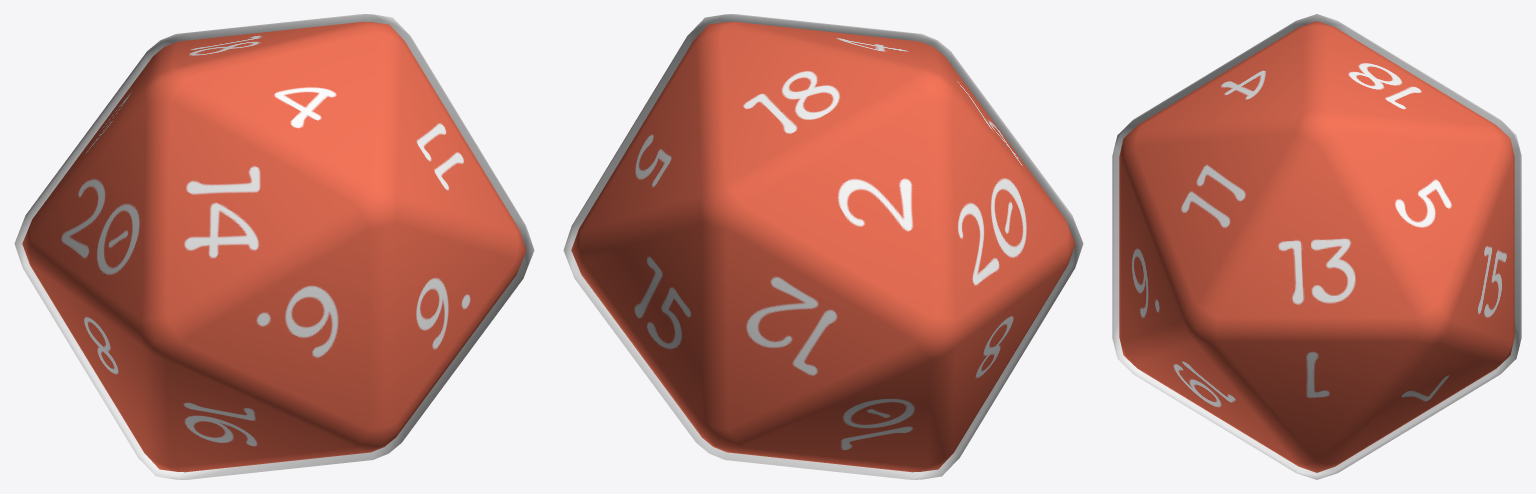
3 renders of one model, left to right at view 1: azimuth 30°, elevation 25°; view 2: azimuth 150°, elevation 25°; view 3: azimuth 270°, elevation 25°, orthographic. The views are drawn at different scales.
Visible parts, largest first — view 1: icosohedron; view 2: icosohedron; view 3: icosohedron.
Part boxes in pixels (x1,y1,x2,y2): icosohedron: (14,14,534,479); icosohedron: (563,14,1083,479); icosohedron: (1112,14,1521,479).
Bounding box in the file's own units: 1.74 × 1.74 × 1.74.
Materials: 2 (1 with a texture image).
